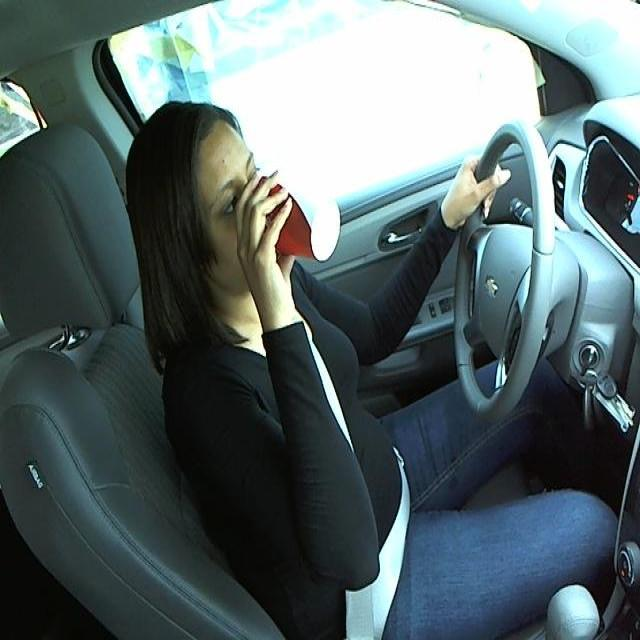Seatbelt: (243, 175, 344, 253)
